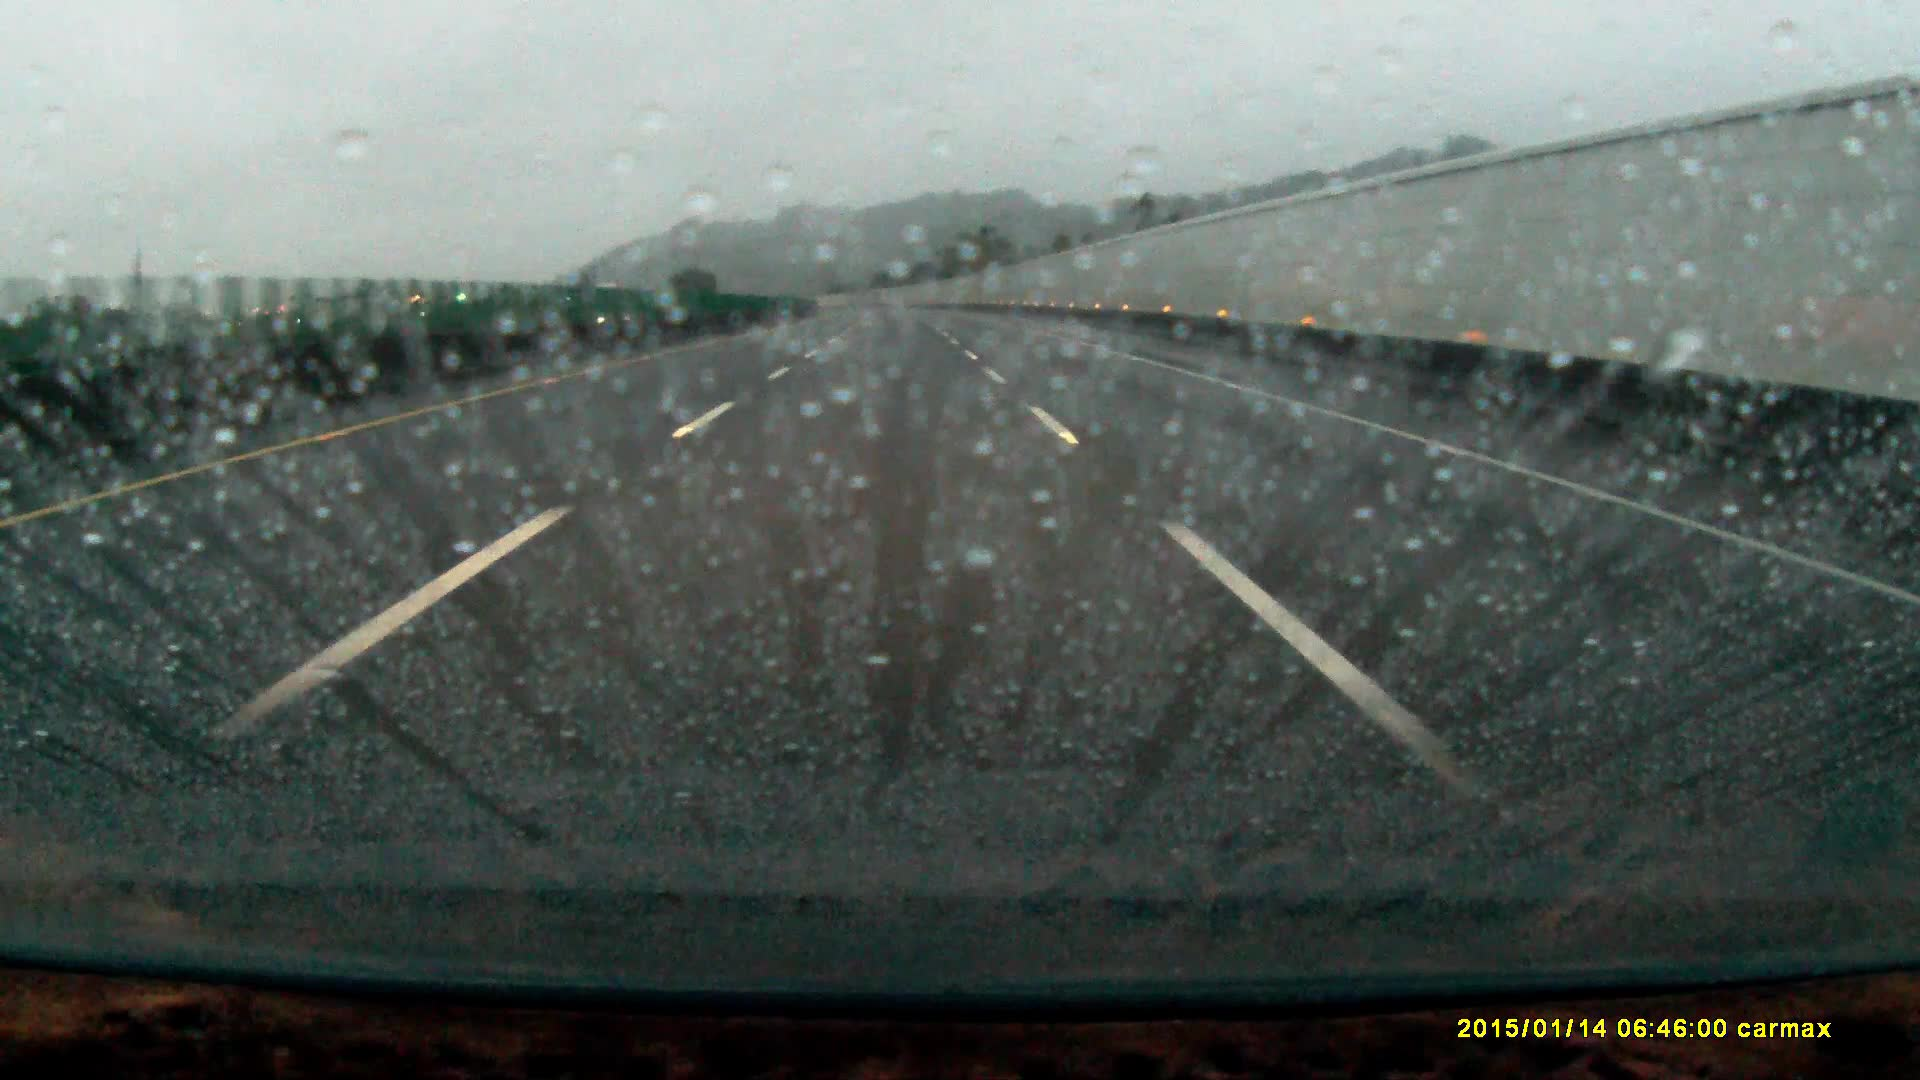vehicle: (597, 295, 644, 322)
